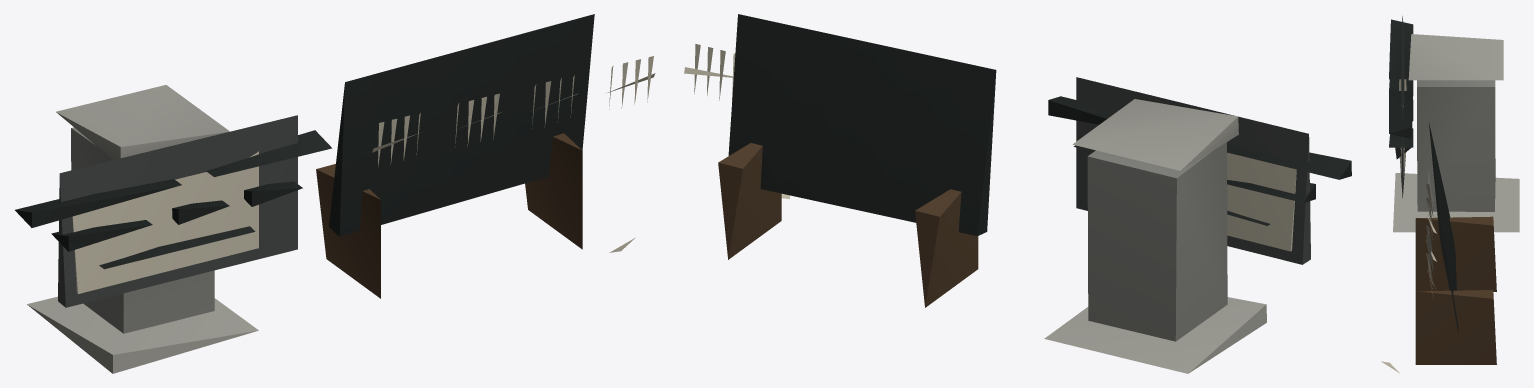
Rendered from stencil_post_a_lod2.glb.
3 views of the same model, side by side, from view 1: azimuth 30°, elevation 25°; view 2: azimuth 150°, elevation 25°; view 3: azimuth 270°, elevation 25° (orthographic). The views are drawn at different scales.
Parts seen in each view (by area): view 1: Surface.001; view 2: Surface.001; view 3: Surface.001.
Part boxes in pixels (box(x1,y1,x2,y2)): Surface.001: box(15, 14, 655, 373); Surface.001: box(684, 14, 1351, 373); Surface.001: box(1381, 16, 1519, 373).
Bounding box in the file's own units: 5.36 × 1.71 × 1.33.
